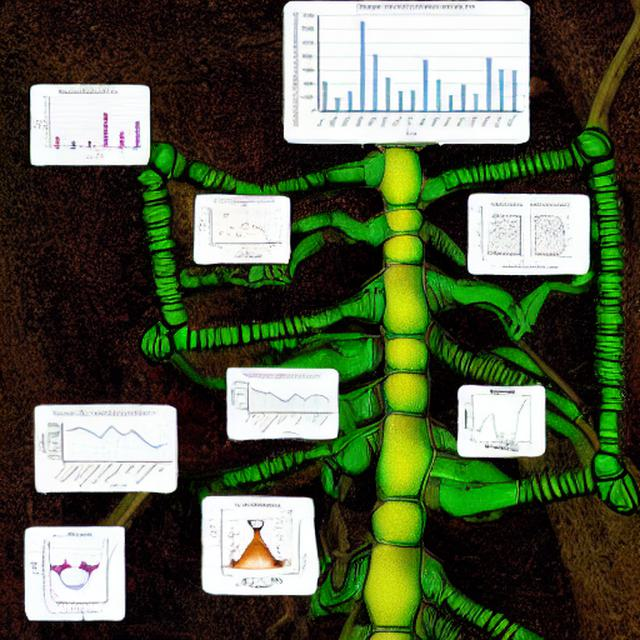Graph: (289, 1, 523, 138), (38, 409, 173, 490), (31, 89, 148, 158), (229, 371, 336, 435), (460, 387, 541, 448), (201, 198, 286, 251)
